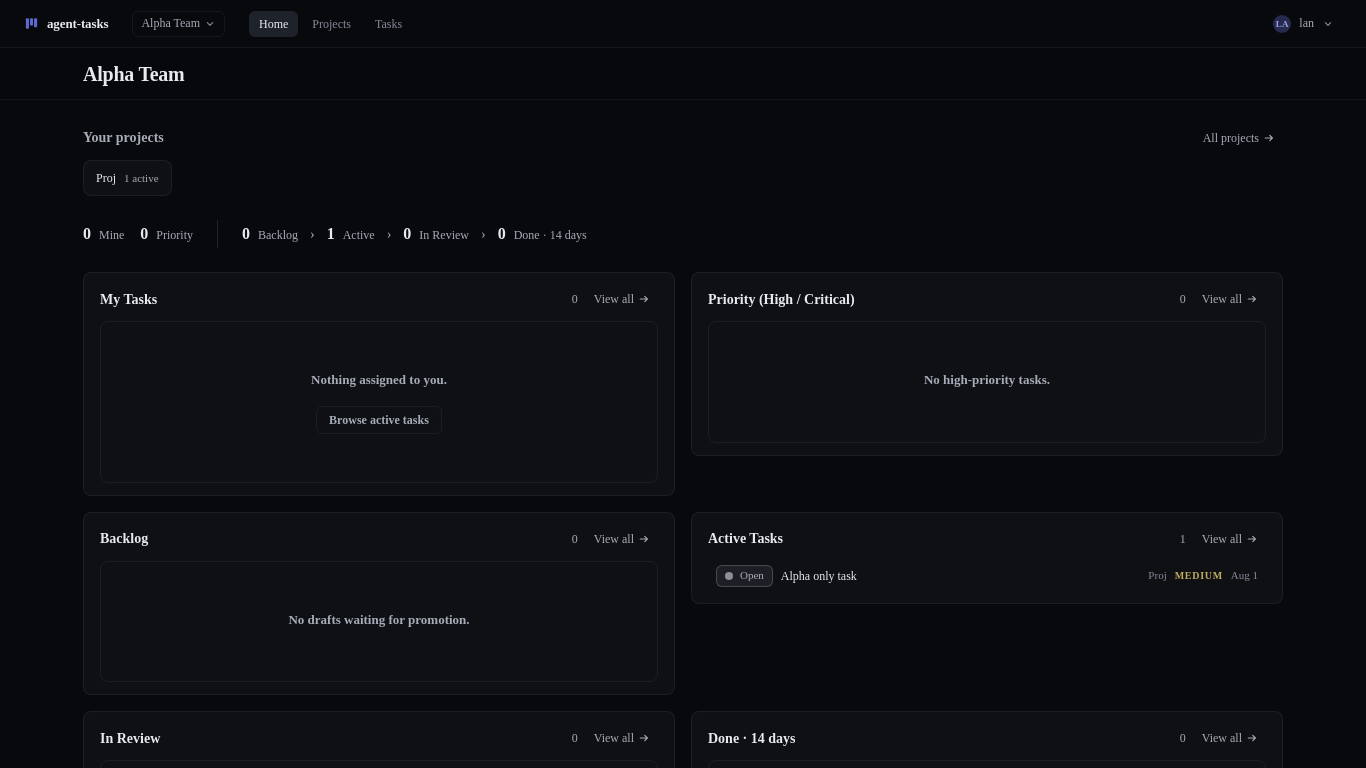
Test: /home: current team follows the URL › re-resolves the team and loads its tasks when the header switches
Expected: the heading "Alpha Team" is shown, x1=83 y1=62 x2=184 y2=86
Click the button with aria-label "Switch team".
click(179, 24)  # box x1=132 y1=10 x2=225 y2=36
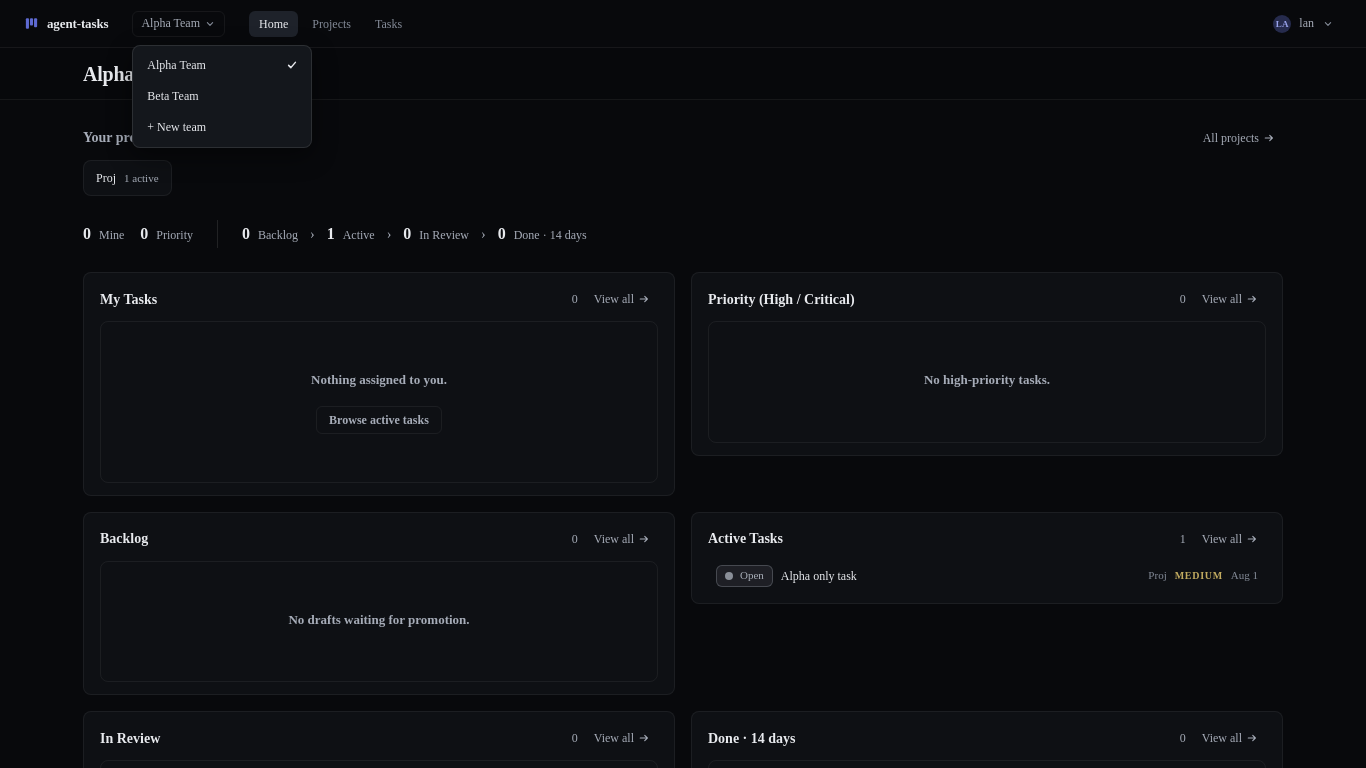
Click the menu item "Beta Team".
click(222, 96)  # box x1=137 y1=80 x2=307 y2=112
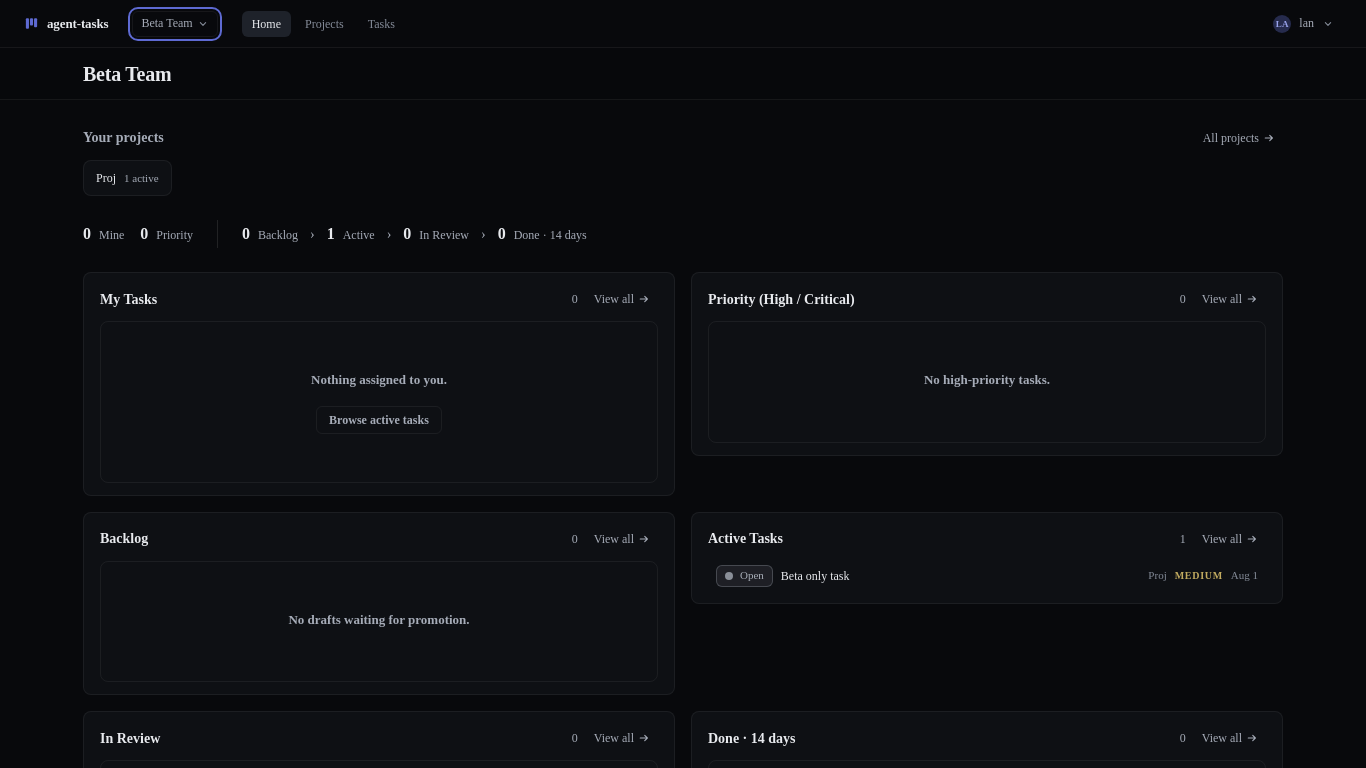
Now the heading "Beta Team" is shown, box x1=83 y1=62 x2=171 y2=86
Now the link "Alpha only task" is gone
Now the text "Beta Team" is shown, box x1=141 y1=16 x2=193 y2=31
